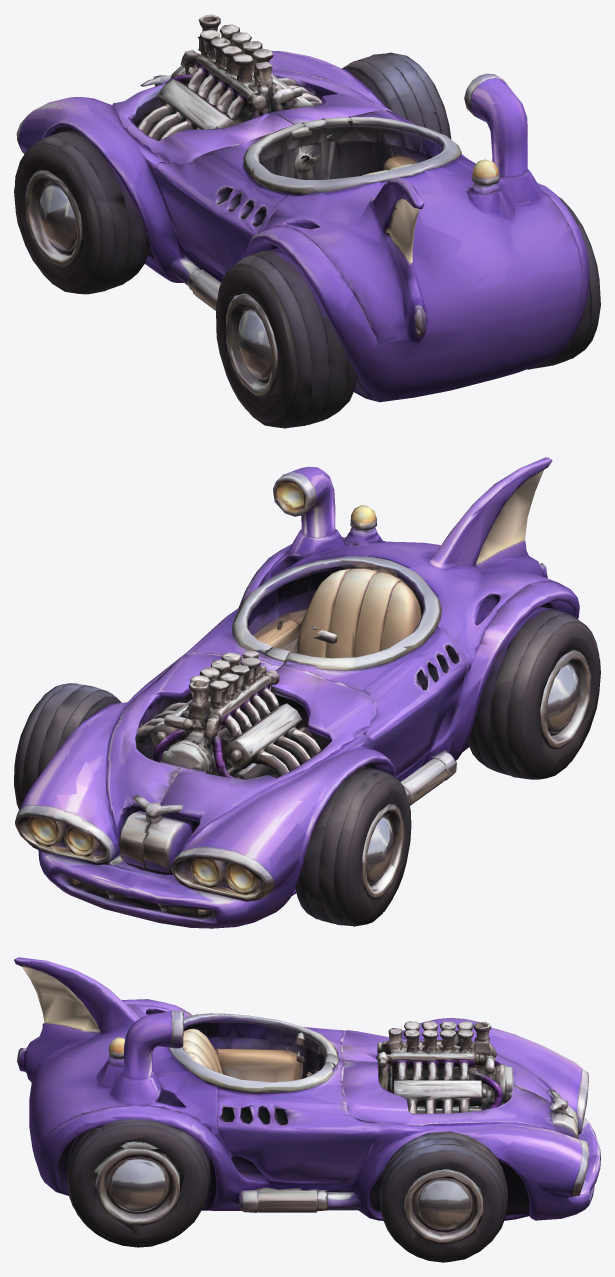
File: Car.fbx
The picture shows the model from 3 angles, top to bottom: view 1: azimuth 30°, elevation 25°; view 2: azimuth 150°, elevation 25°; view 3: azimuth 270°, elevation 25°; orthographic projection. The views are drawn at different scales.
Parts seen in each view (by area): view 1: LOD0; view 2: LOD0; view 3: LOD0.
Part boxes in pixels (x1,y1,x2,y2): LOD0: (14,14,600,428); LOD0: (14,457,600,928); LOD0: (14,957,600,1262).
Size of what is drawn, in the model's own units: 2.36 by 1.71 by 4.
